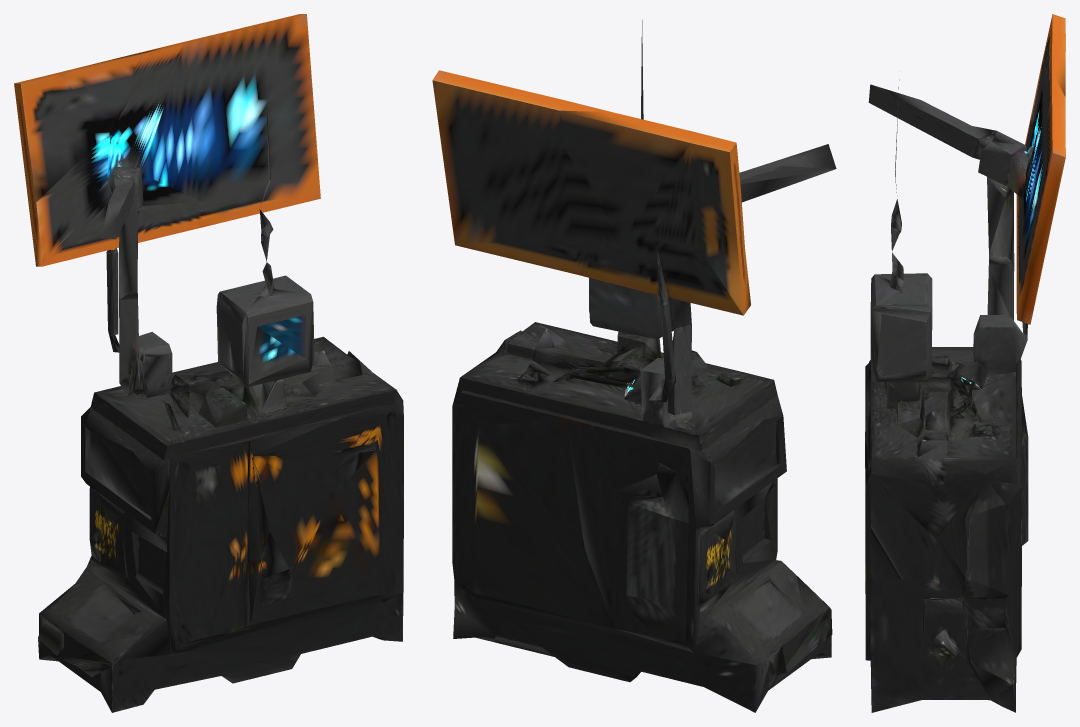
Rendered from obj_relay_v1_lod1.glb.
3 views of the same model, side by side, from view 1: azimuth 30°, elevation 25°; view 2: azimuth 150°, elevation 25°; view 3: azimuth 270°, elevation 25° (orthographic). The views are drawn at different scales.
Size of the model in its own units: 0.9018 by 1.64 by 0.5118.
Materials: 1 (1 with a texture image).
